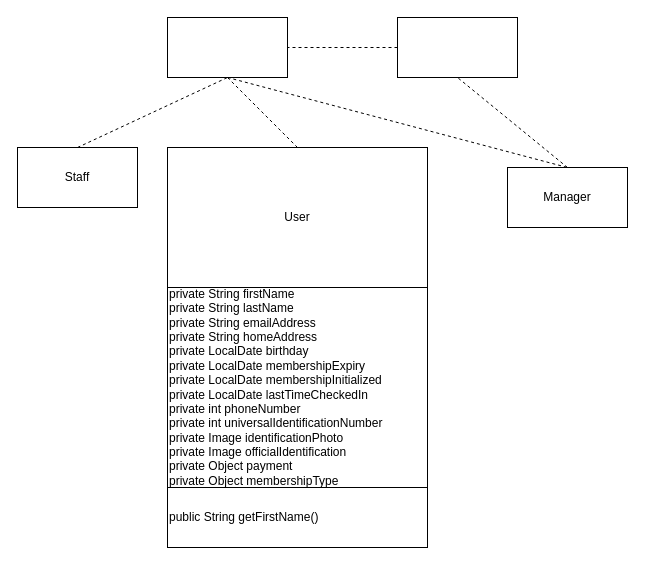
The diagram is 645 pixels wide and 565 high, and some of its shapes have lost their labels. Here are the shapes that lost their labels. From the top down, the centre of each, then its label:
At point 227,47: "System".
At point 457,47: "Database".
